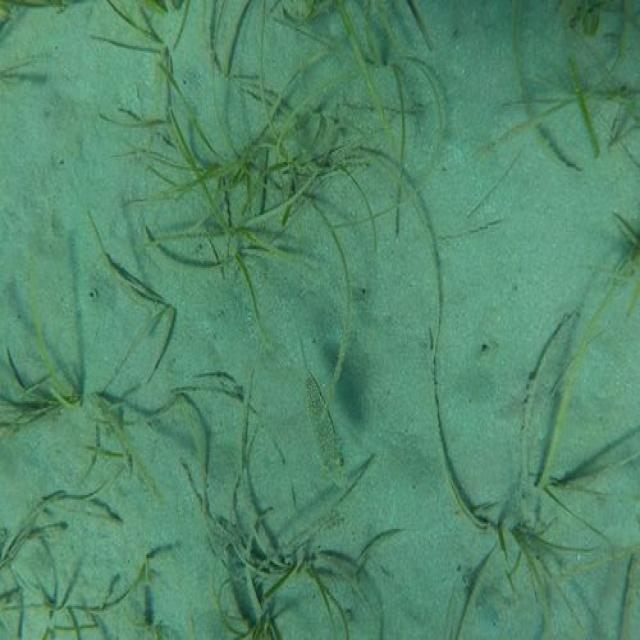Balik: (307, 370, 346, 485)
